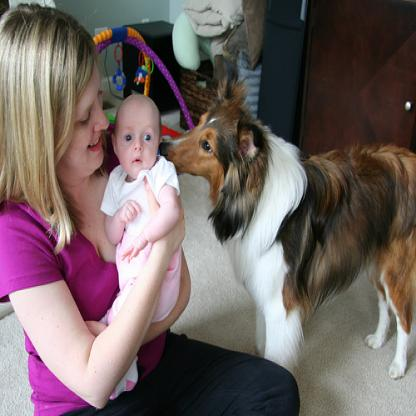Shetland_sheepdog: (157, 72, 414, 381)
